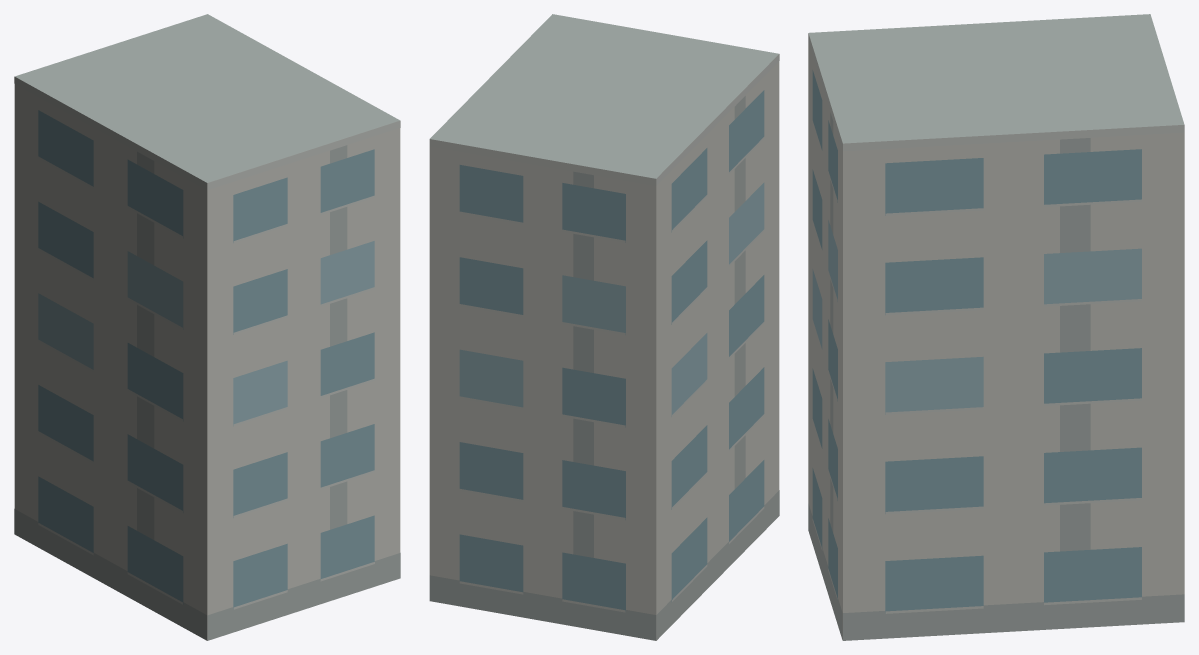
Rendered from residential-0e59b8ca-10fb-4eab-874d-c1d58fe1ee95.glb.
The picture shows the model from 3 angles, left to right: view 1: azimuth 30°, elevation 25°; view 2: azimuth 150°, elevation 25°; view 3: azimuth 270°, elevation 25°; orthographic projection. The views are drawn at different scales.
Visible parts, largest first — view 1: residential-0e59b8ca-10fb-4eab-874d-c1d58fe1ee95.tmp; view 2: residential-0e59b8ca-10fb-4eab-874d-c1d58fe1ee95.tmp; view 3: residential-0e59b8ca-10fb-4eab-874d-c1d58fe1ee95.tmp.
Boxes of the visible parts, x1,y1,x2,y2 form: residential-0e59b8ca-10fb-4eab-874d-c1d58fe1ee95.tmp: (14,14,400,640); residential-0e59b8ca-10fb-4eab-874d-c1d58fe1ee95.tmp: (429,14,779,640); residential-0e59b8ca-10fb-4eab-874d-c1d58fe1ee95.tmp: (808,14,1184,640).
Size of the model in its own units: 8.53 by 15.25 by 10.46.
